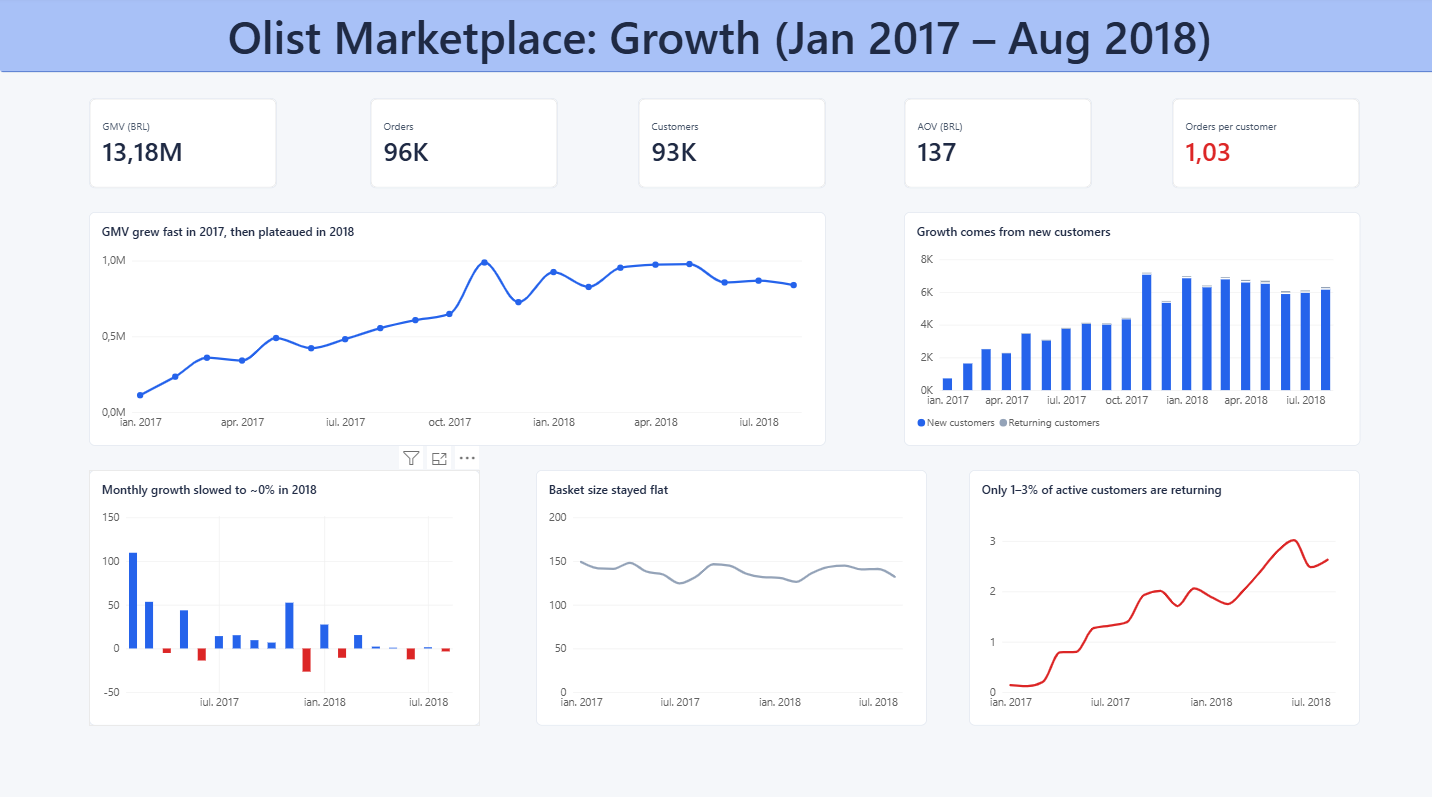

The dashboard page shown, as its layout file describes it:
{"tool":"powerbi","page":{"name":"Page 1","canvas":[1920,1080],"ordinal":0},"visuals":[{"type":"shape","title":"GROWTH","box":[0,0,1920.6,101.1],"z":0},{"type":"cardVisual","title":"GMV","fields":{"Data":["Sum(vw_kpi.gmv)"]},"box":[121,134.3,250,120],"z":1000},{"type":"cardVisual","title":"GMV","fields":{"Data":["Sum(vw_kpi.comenzi_per_client)"]},"box":[1561.5,134.3,250,120],"z":2000},{"type":"cardVisual","title":"GMV","fields":{"Data":["Sum(vw_kpi.aov)"]},"box":[1205,134.3,250,120],"z":3000},{"type":"cardVisual","title":"GMV","fields":{"Data":["Sum(vw_kpi.comenzi)"]},"box":[494.8,134.3,250,120],"z":4000},{"type":"cardVisual","title":"GMV","fields":{"Data":["Sum(vw_kpi.clienti)"]},"box":[851.2,134.3,250,120],"z":5000},{"type":"lineChart","title":"GMV grew fast in 2017, then plateaued in 2018","fields":{"Category":["vw_month_trend.luna"],"Y":["Sum(vw_month_trend.gmv)"]},"box":[121,286,980.2,311.2],"z":6000},{"type":"columnChart","title":"Growth comes from new customers","fields":{"Category":["vw_clients.luna"],"Y":["Sum(vw_clients.clienti_noi)","Sum(vw_clients.clienti_care_revin)"]},"box":[1205,286,606.5,311.2],"z":7000},{"type":"clusteredColumnChart","title":"Monthly growth slowed to ~0% in 2018","fields":{"Category":["vw_month_trend.luna"],"Y":["Sum(vw_month_trend.crestere_gmv_pct)"]},"box":[121,629.1,520,340.5],"z":8000},{"type":"lineChart","title":"Basket size stayed flat","fields":{"Category":["vw_month_trend.luna"],"Y":["Sum(vw_month_trend.aov)"]},"box":[715.6,629.1,520,340.5],"z":9000},{"type":"lineChart","title":"Only 1–3% of active customers are returning","fields":{"Category":["vw_clients.luna"],"Y":["Sum(vw_clients.pct_care_revin)"]},"box":[1291.5,629.1,520,340.5],"z":10000}]}

Visuals, with their boxes in screenshot pixels (x1, y1, x2, y2), scaled from the page's 1920x1080 canvas onto the 1432x797 screenshot:
"GROWTH" shape: 0:0:1431:75
"GMV" cardVisual: 90:99:277:188
"GMV" cardVisual: 1165:99:1351:188
"GMV" cardVisual: 899:99:1085:188
"GMV" cardVisual: 369:99:555:188
"GMV" cardVisual: 635:99:821:188
"GMV grew fast in 2017, then plateaued in 2018" lineChart: 90:211:821:441
"Growth comes from new customers" columnChart: 899:211:1351:441
"Monthly growth slowed to ~0% in 2018" clusteredColumnChart: 90:464:478:716
"Basket size stayed flat" lineChart: 534:464:922:716
"Only 1–3% of active customers are returning" lineChart: 963:464:1351:716
